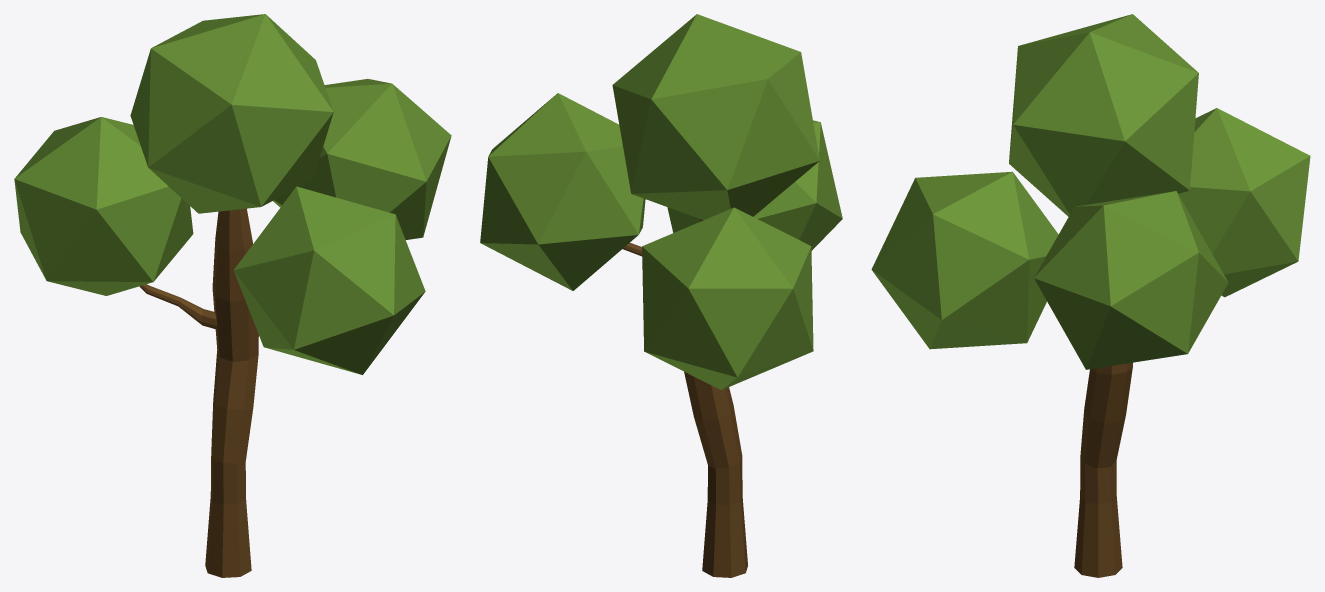
File: tree1.fbx
3 renders of one model, left to right at view 1: azimuth 30°, elevation 25°; view 2: azimuth 150°, elevation 25°; view 3: azimuth 270°, elevation 25°, orthographic.
Parts seen in each view (by area): view 1: tree1; view 2: tree1; view 3: tree1.
Boxes of the visible parts, x1,y1,x2,y2 form: tree1: (14,14,451,577); tree1: (480,14,842,577); tree1: (871,14,1310,577).
Bounding box in the file's own units: 1782 × 2522 × 1820.
1 material, 1 textured.
